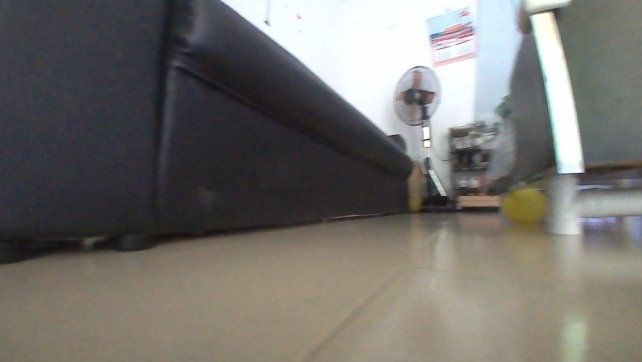sofa: (0, 0, 416, 255)
